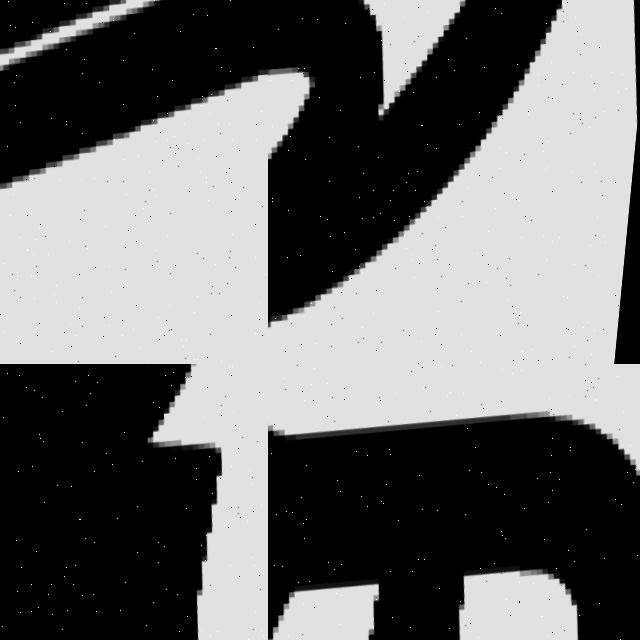6: (268, 0, 622, 364)
A: (268, 364, 640, 640)
N: (0, 0, 268, 308)
R: (0, 364, 268, 640)
